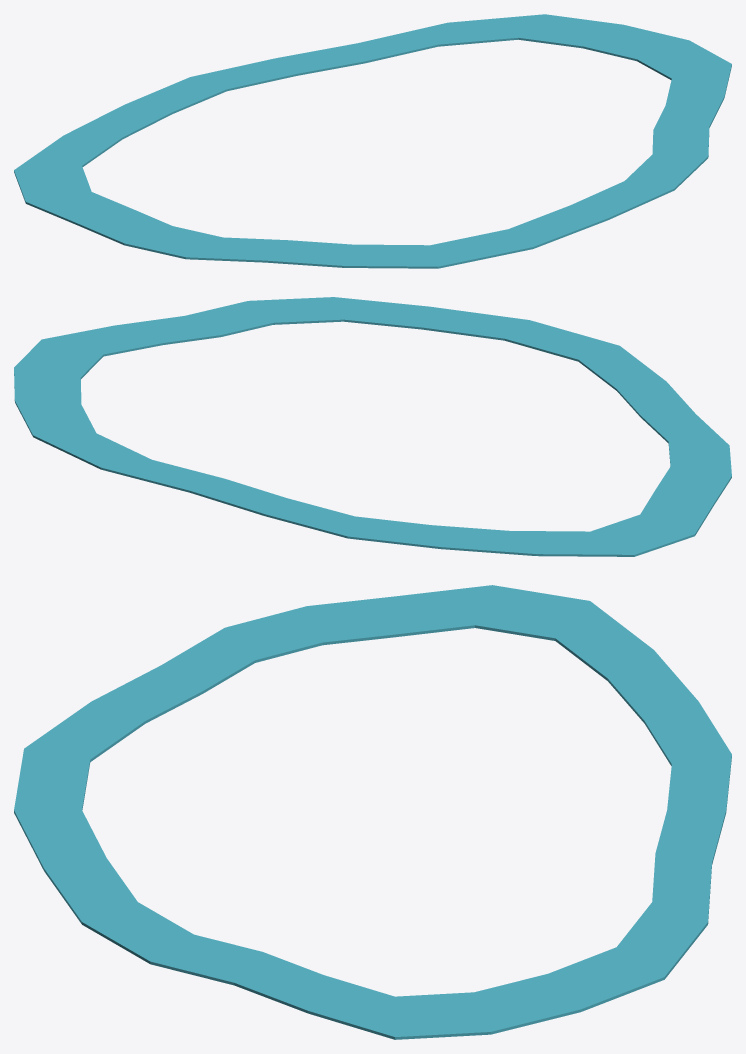
3 renders of one model, top to bottom at view 1: azimuth 30°, elevation 25°; view 2: azimuth 150°, elevation 25°; view 3: azimuth 270°, elevation 25°, orthographic. The views are drawn at different scales.
Parts seen in each view (by area): view 1: 水潭_浅水环2.001; view 2: 水潭_浅水环2.001; view 3: 水潭_浅水环2.001.
Part boxes in pixels (x1,y1,x2,y2): 水潭_浅水环2.001: (14, 14, 731, 268); 水潭_浅水环2.001: (14, 297, 731, 556); 水潭_浅水环2.001: (14, 585, 731, 1039).
Size of the model in its own units: 1.41 by 0.004 by 0.9484.
